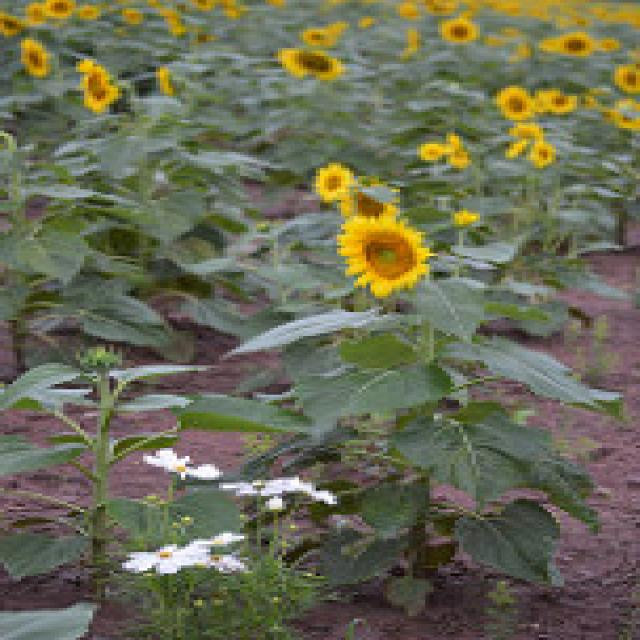sunflower: (338, 220, 432, 288), (71, 63, 144, 114), (274, 46, 352, 84), (308, 165, 369, 210), (18, 40, 56, 79), (497, 89, 535, 123)
